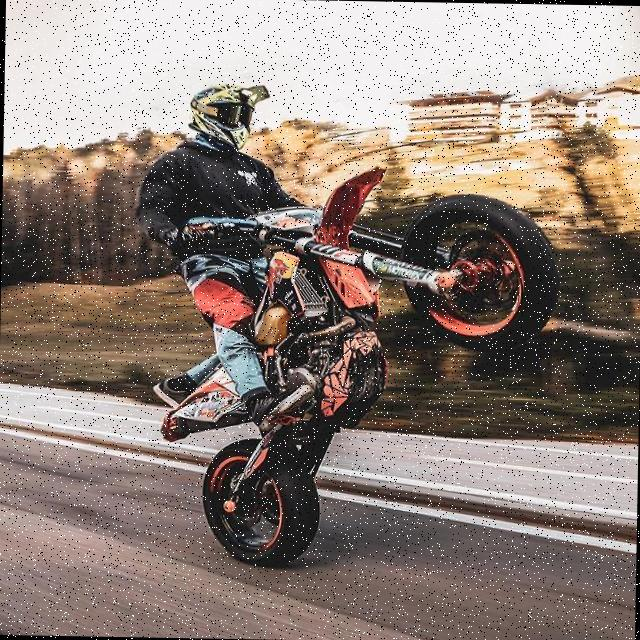Wheeling: (148, 79, 574, 574)
